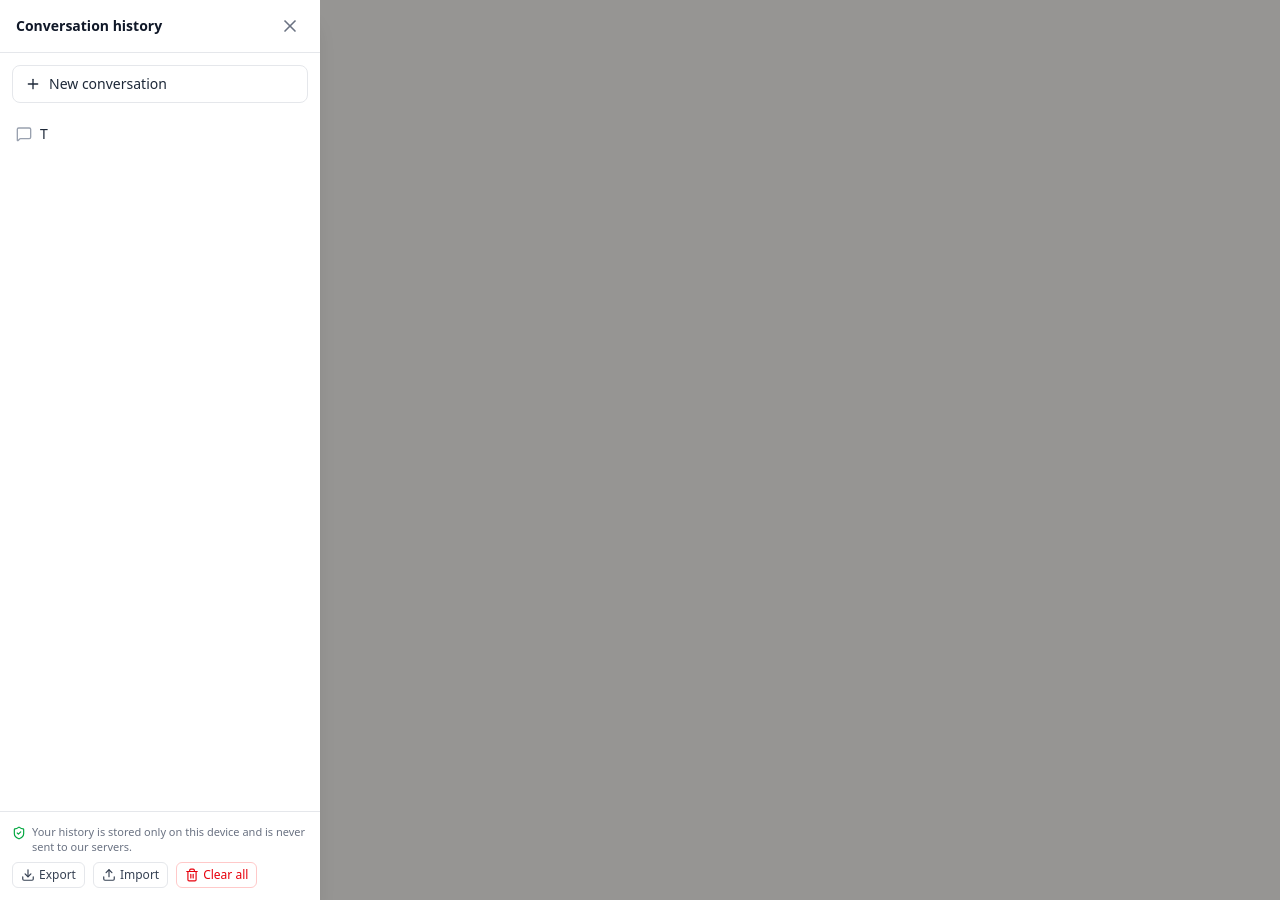
ConversationSidebar › reveals the export passphrase panel
Expected: the text "T" is shown, top-left (40, 124), bottom-right (48, 144)
Click the button "Export" at x=48, y=875, box top-left (12, 862), bottom-right (85, 888)
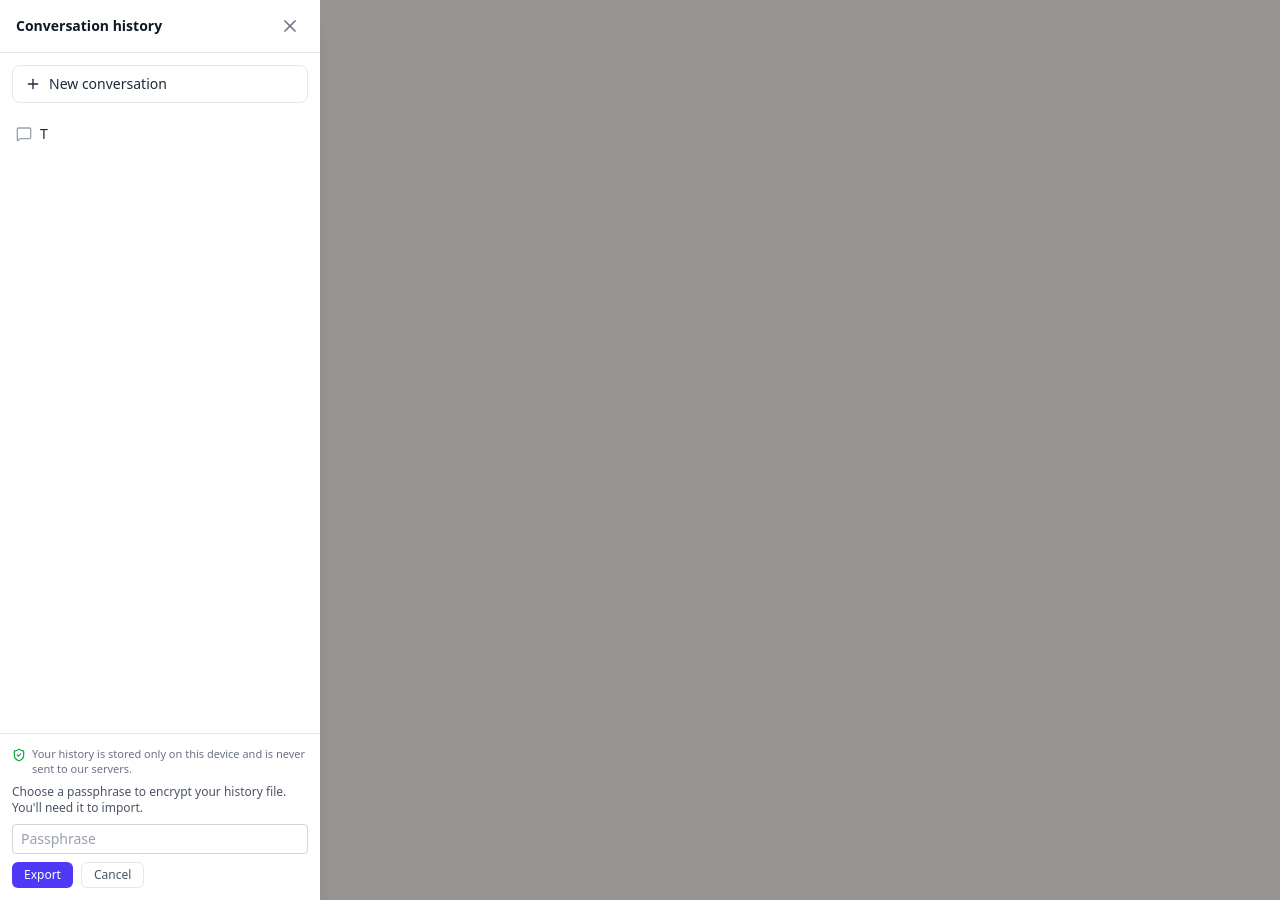
Expected: the password field with placeholder "Passphrase" is shown, top-left (12, 824), bottom-right (308, 854)
